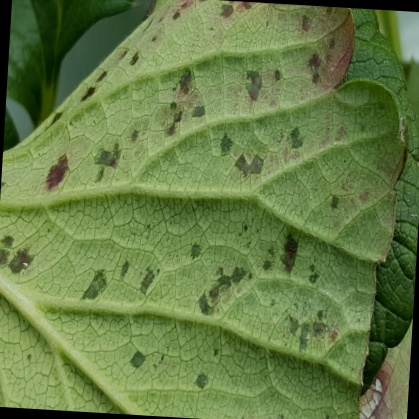Angular_LS: (362, 308, 418, 418)
